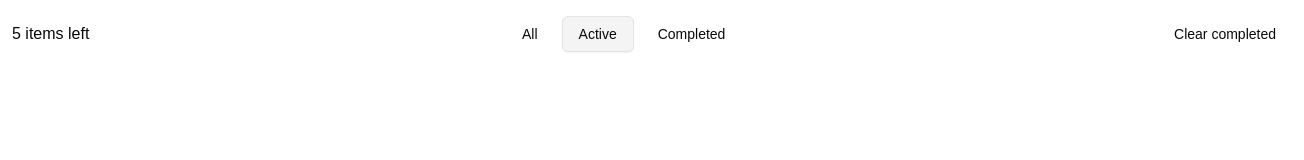
Control component › clears completed todos
Click the button "Clear completed" at (1225, 34), box [1158,16,1292,52]
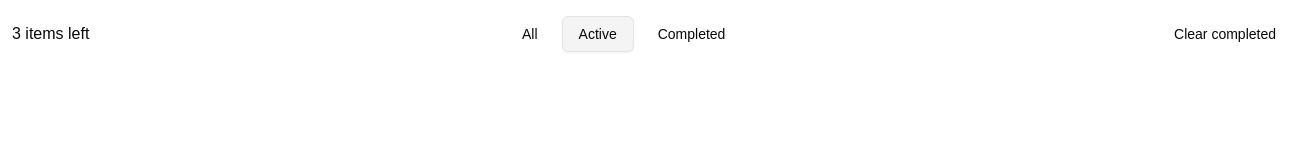
Result: the text "3 items left" is shown at [12,22,89,46]
